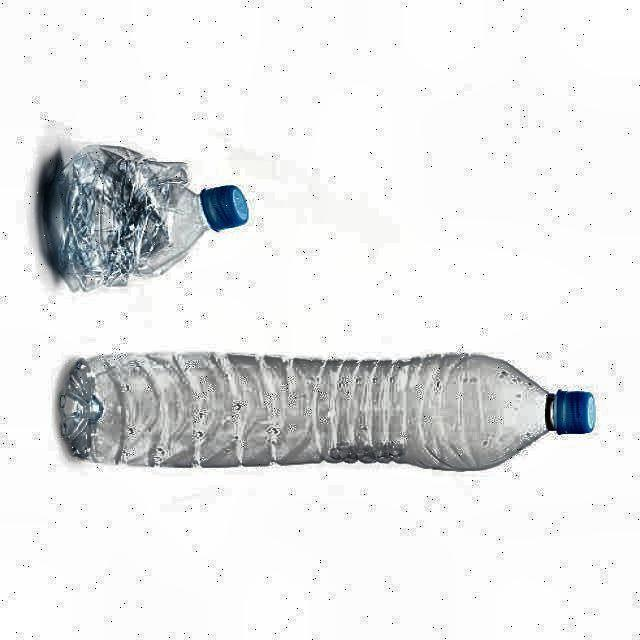plastic: (59, 352, 595, 469), (38, 144, 248, 289)
